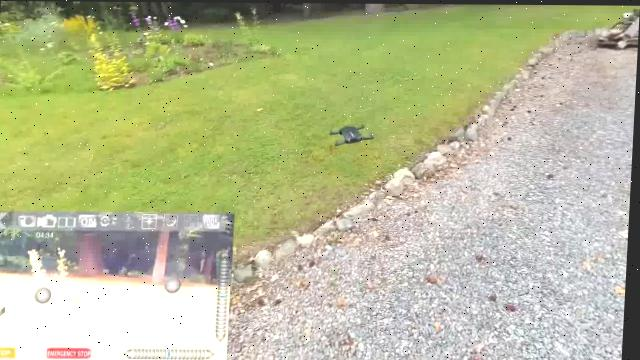drone: (294, 105, 396, 161)
